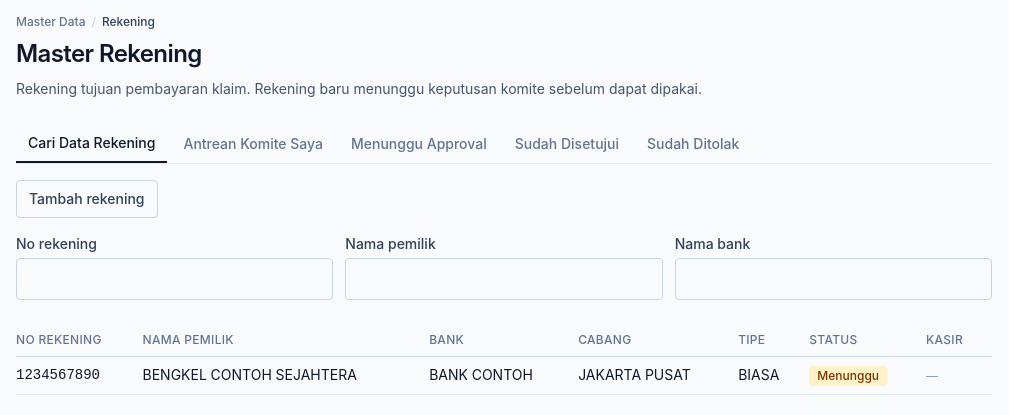
it: AccountPage › tombol Approve dan Reject hanya muncul pada tab yang menunggu keputusan
The width and height of the screenshot is (1009, 415).
Check: the text "1234567890" is shown, box [16,356,142,394]
Check: the button "Approve" is not shown
What coordinates should you click on to do the following:
click the button "Menunggu Approval"
I would click on:
 (419, 144)
Its box is [339,125,499,163].
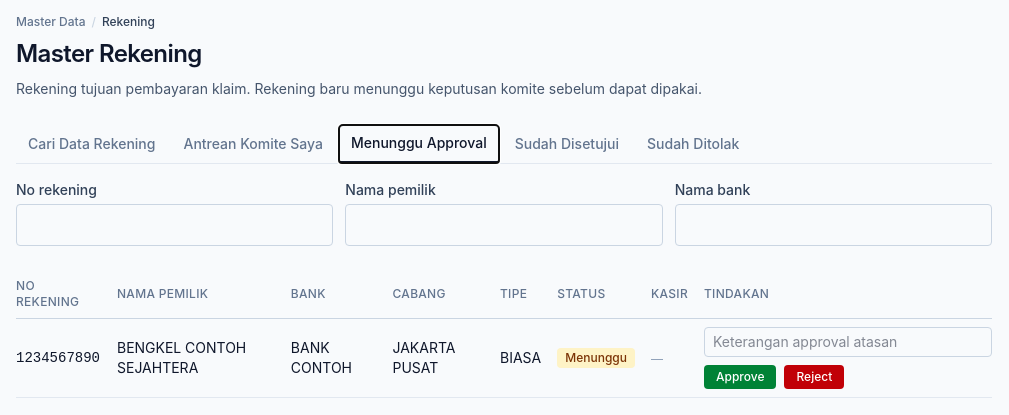
Check: the button "Approve" is shown, box [704,365,776,389]
